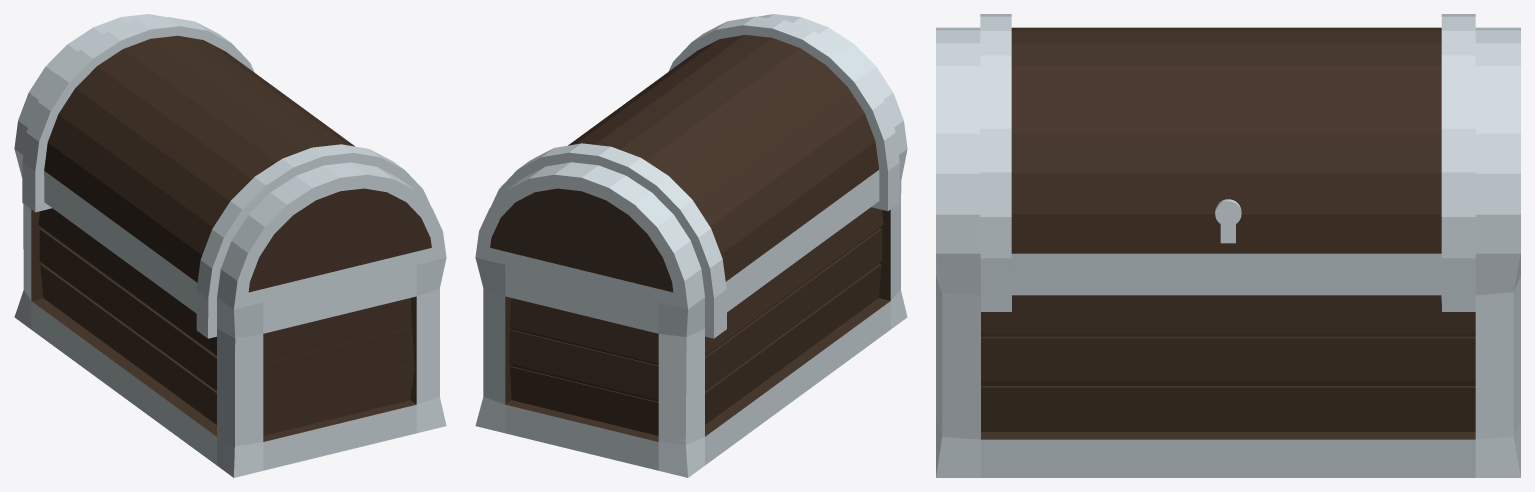
Rendered from Chest.fbx.
3 renders of one model, left to right at view 1: azimuth 30°, elevation 25°; view 2: azimuth 150°, elevation 25°; view 3: azimuth 270°, elevation 25°, orthographic. The views are drawn at different scales.
Visible parts, largest first — view 1: Cube; view 2: Cube; view 3: Cube, Cylinder.
Part boxes in pixels (<box>): Cube: <box>14,14,446,477</box>; Cube: <box>475,14,907,477</box>; Cube: <box>936,14,1520,477</box>; Cylinder: <box>1215,199,1241,243</box>.
Size of what is drawn, in the model's own units: 217 by 255 by 357.
